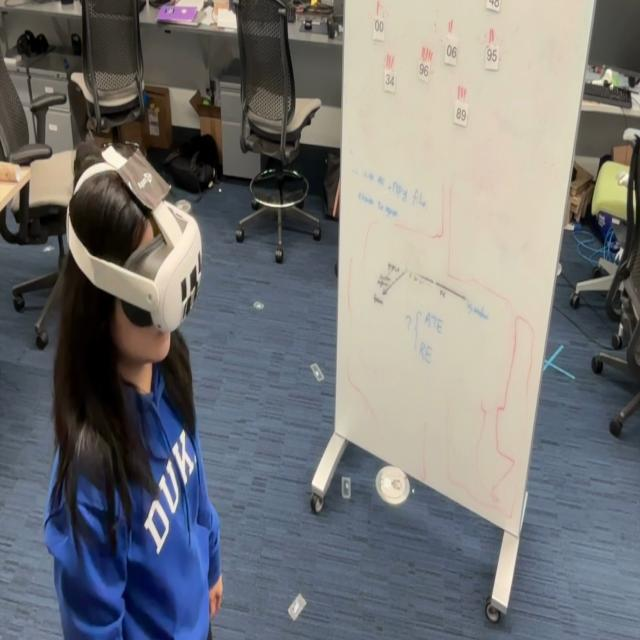Headset: (64, 145, 203, 334)
UnityLogo: (116, 149, 174, 225)
